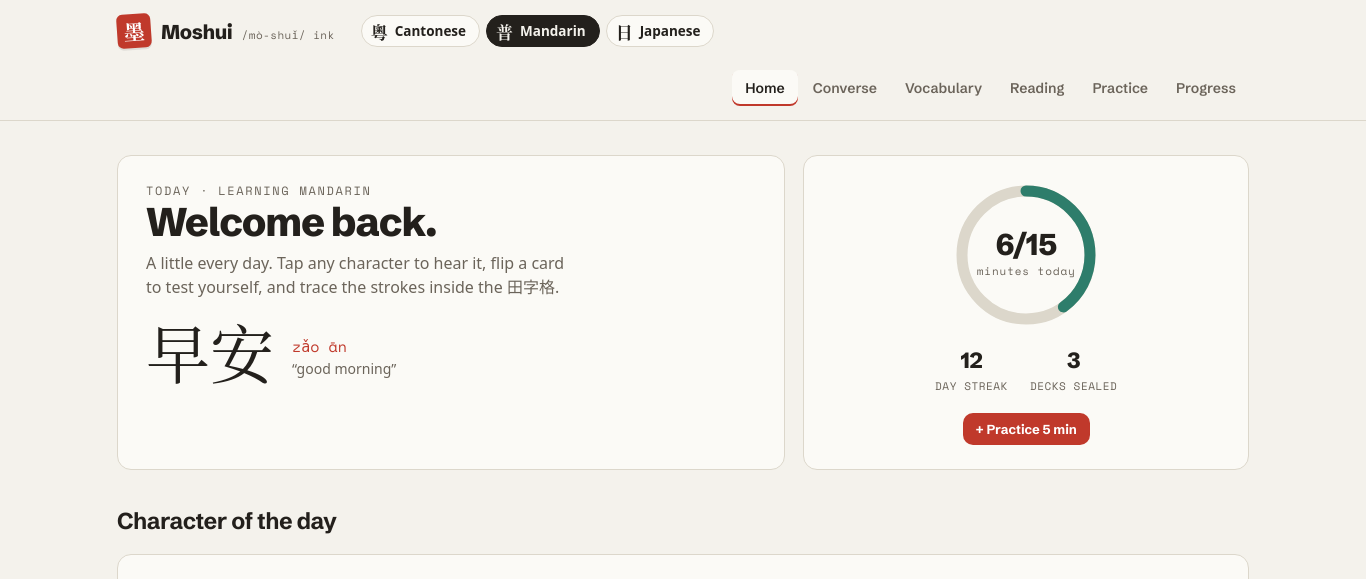
Test: progress persistence (T2) › shows no accuracy on a clean first visit
Click the button "Progress".
click(1206, 88)  # box [1163,70,1249,106]
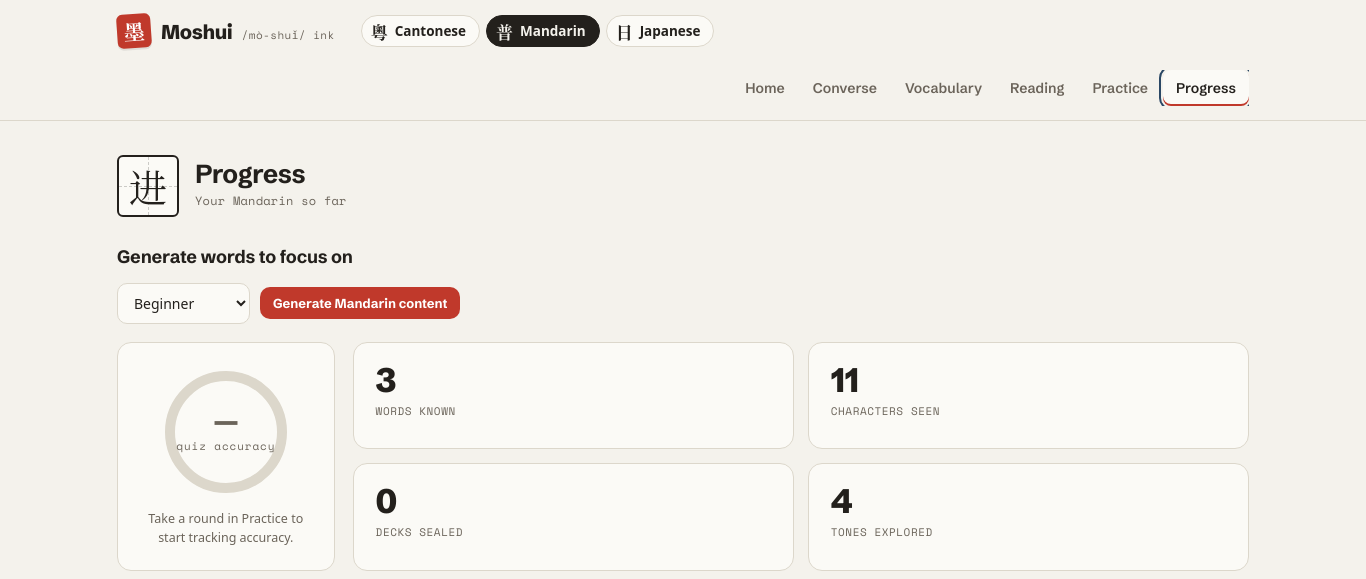
Expected: the text "—" is shown, [213,406,238,438]
